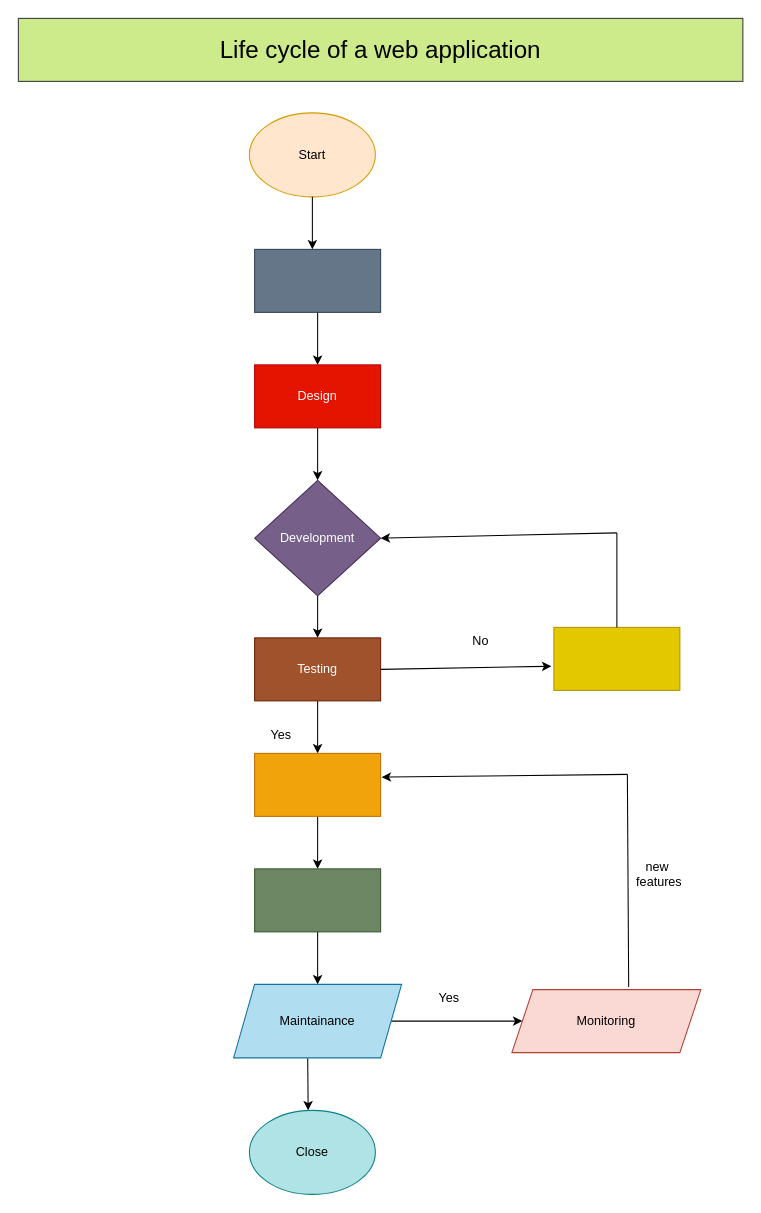
Some shapes in this 761 by 1213 pixel diagram are drawn without their labels. The box of each missing label's shape, as (x1, y1, x2, y2) in pixels:
Deployement: (254, 752, 381, 816)
Idea: (254, 248, 381, 312)
Launch: (254, 868, 381, 932)
Make Changes: (553, 626, 680, 690)
